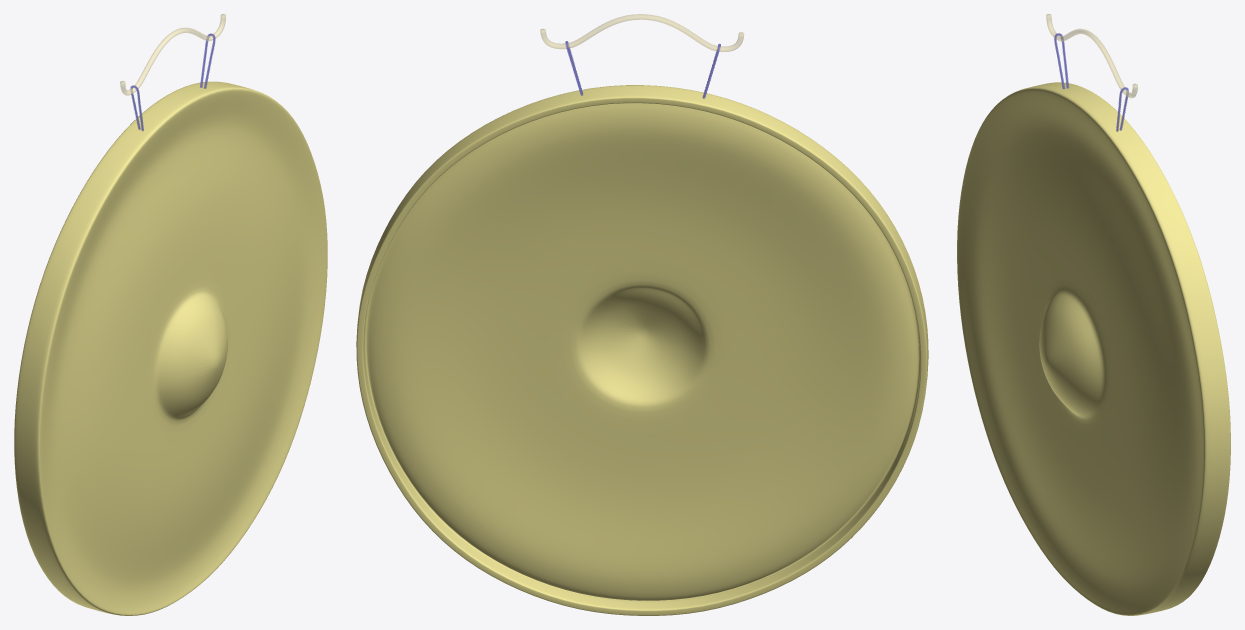
Rendered from congchieng.gltf.
3 views of the same model, side by side, from view 1: azimuth 30°, elevation 25°; view 2: azimuth 150°, elevation 25°; view 3: azimuth 270°, elevation 25° (orthographic). The views are drawn at different scales.
Parts seen in each view (by area): view 1: Laos_Bronze_Gong_4, Line002, Spring003; view 2: Laos_Bronze_Gong_4, Line002; view 3: Laos_Bronze_Gong_4, Line002, Spring003.
Boxes of the visible parts, bbox=[...] form: Laos_Bronze_Gong_4: bbox=[14, 81, 327, 615]; Line002: bbox=[120, 14, 225, 95]; Spring003: bbox=[130, 33, 215, 130]; Laos_Bronze_Gong_4: bbox=[356, 85, 928, 615]; Line002: bbox=[540, 14, 743, 51]; Laos_Bronze_Gong_4: bbox=[957, 82, 1230, 615]; Line002: bbox=[1046, 14, 1137, 97]; Spring003: bbox=[1054, 33, 1128, 131].
Bounding box in the file's own units: 1.76 × 2.22 × 0.9859.
